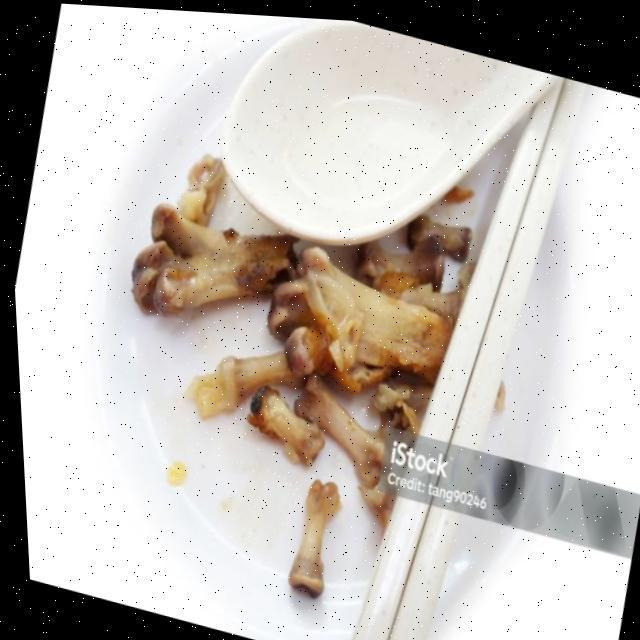Wet Waste: (260, 242, 457, 405), (106, 188, 296, 348), (288, 378, 402, 500), (269, 471, 344, 605), (238, 390, 323, 464)
